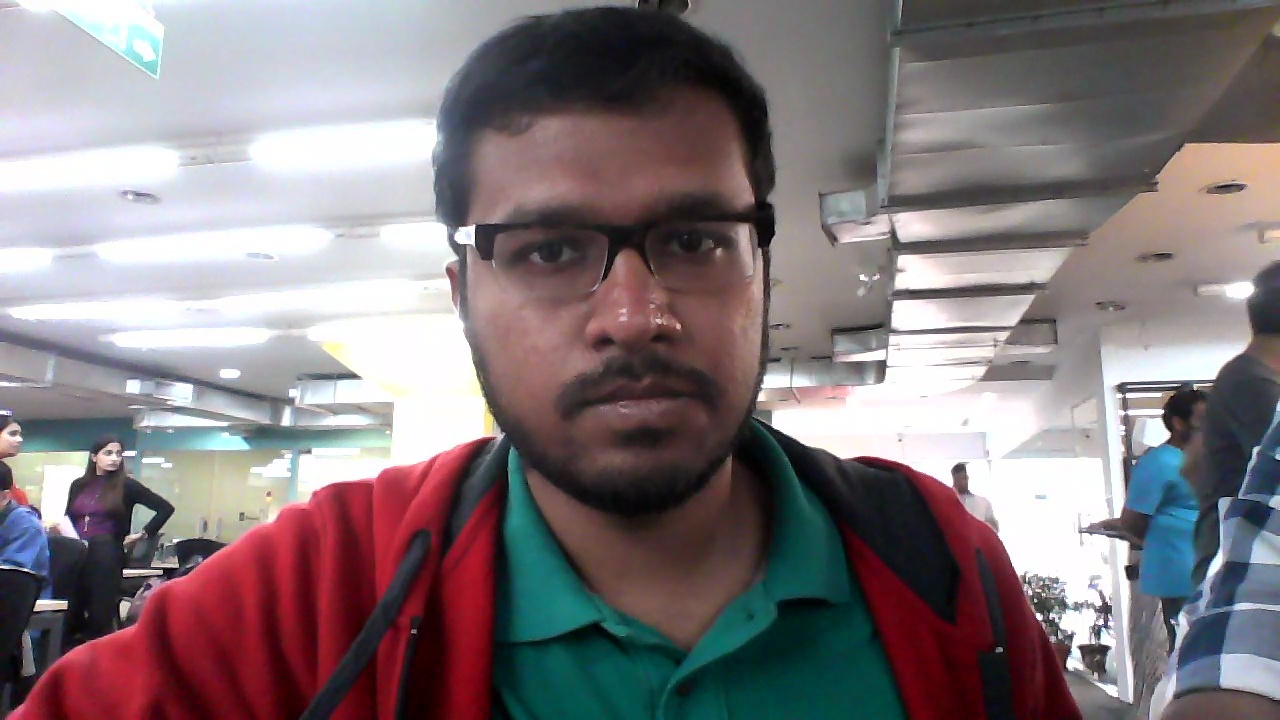open: (437, 19, 788, 514)
